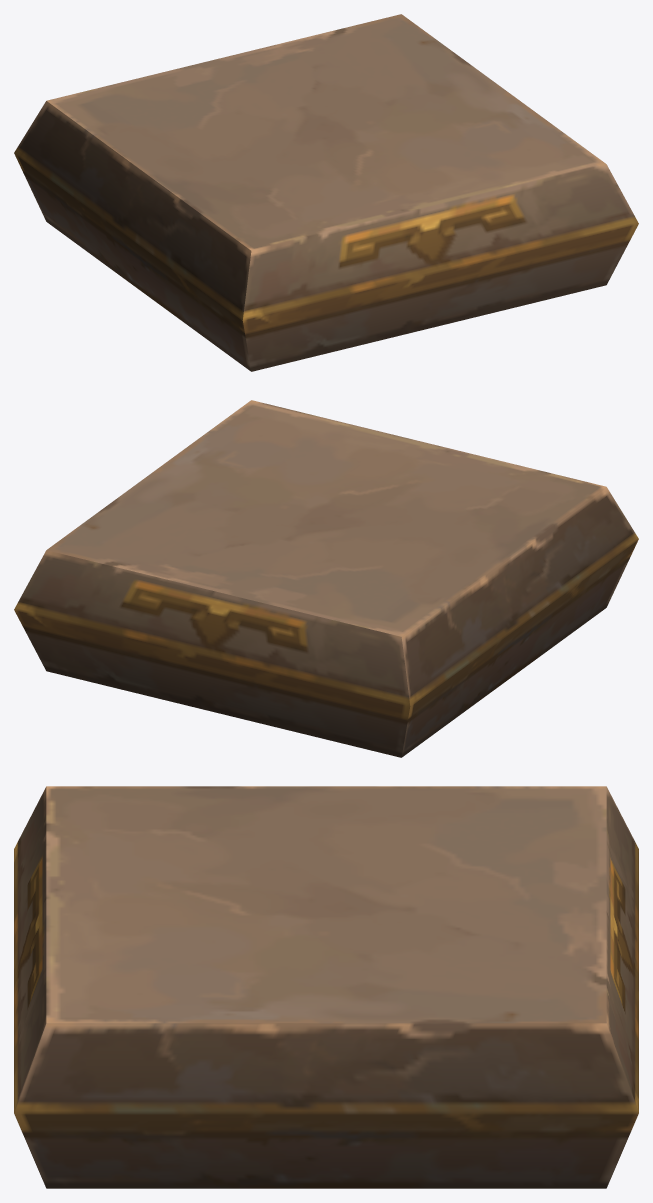
Rendered from fb_jjc_zj_04_f.FBX.
3 views of the same model, one above another, from view 1: azimuth 30°, elevation 25°; view 2: azimuth 150°, elevation 25°; view 3: azimuth 270°, elevation 25° (orthographic). The views are drawn at different scales.
Parts seen in each view (by area): view 1: fb_jjc_zj_04_f; view 2: fb_jjc_zj_04_f; view 3: fb_jjc_zj_04_f.
Boxes of the visible parts, x1=… form: fb_jjc_zj_04_f: x1=14, y1=14, x2=638, y2=371; fb_jjc_zj_04_f: x1=14, y1=400, x2=638, y2=757; fb_jjc_zj_04_f: x1=14, y1=786, x2=638, y2=1188.
Bounding box in the file's own units: 206 × 60.16 × 206.
